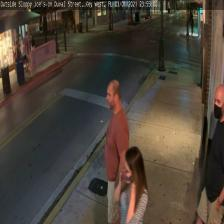person: (195, 84, 224, 221), (104, 79, 129, 223), (113, 146, 149, 223)
